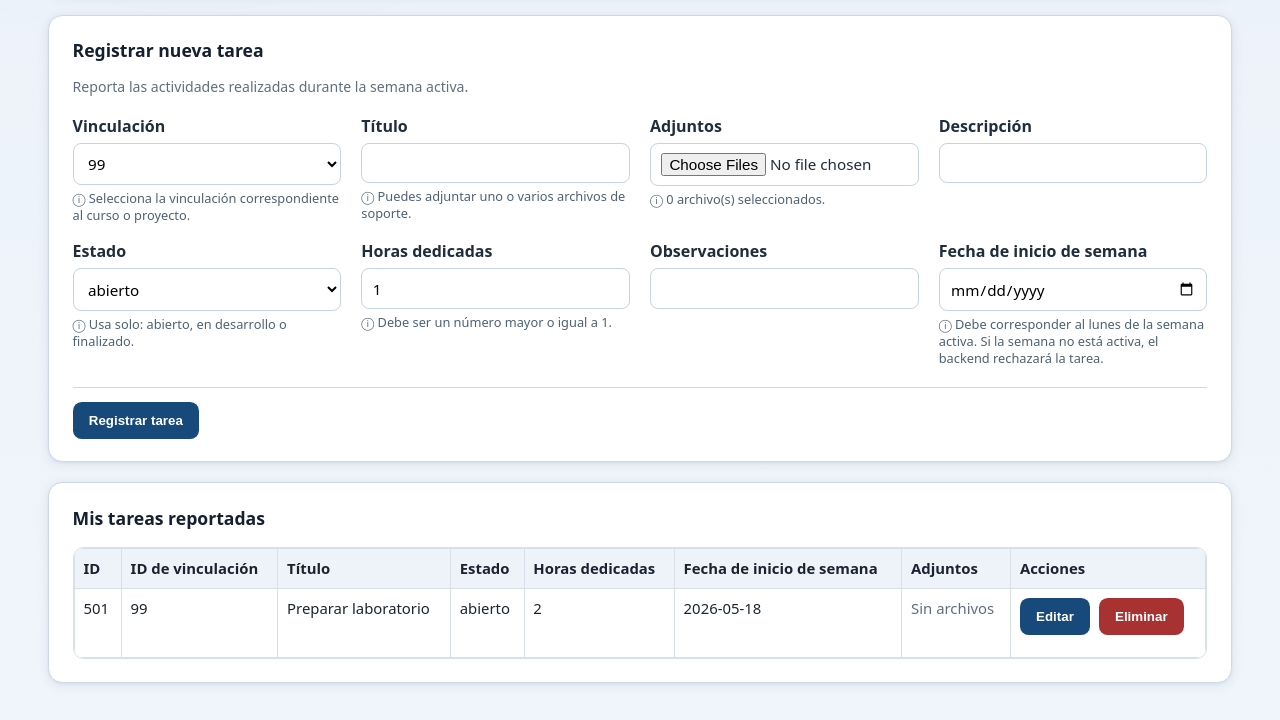
WorkerDashboard › permite eliminar una tarea con respuesta exitosa
This screenshot has width=1280, height=720.
(page scrolled)
Click the button "Eliminar": (1141, 616) [1099, 598, 1184, 635]
(page scrolled)
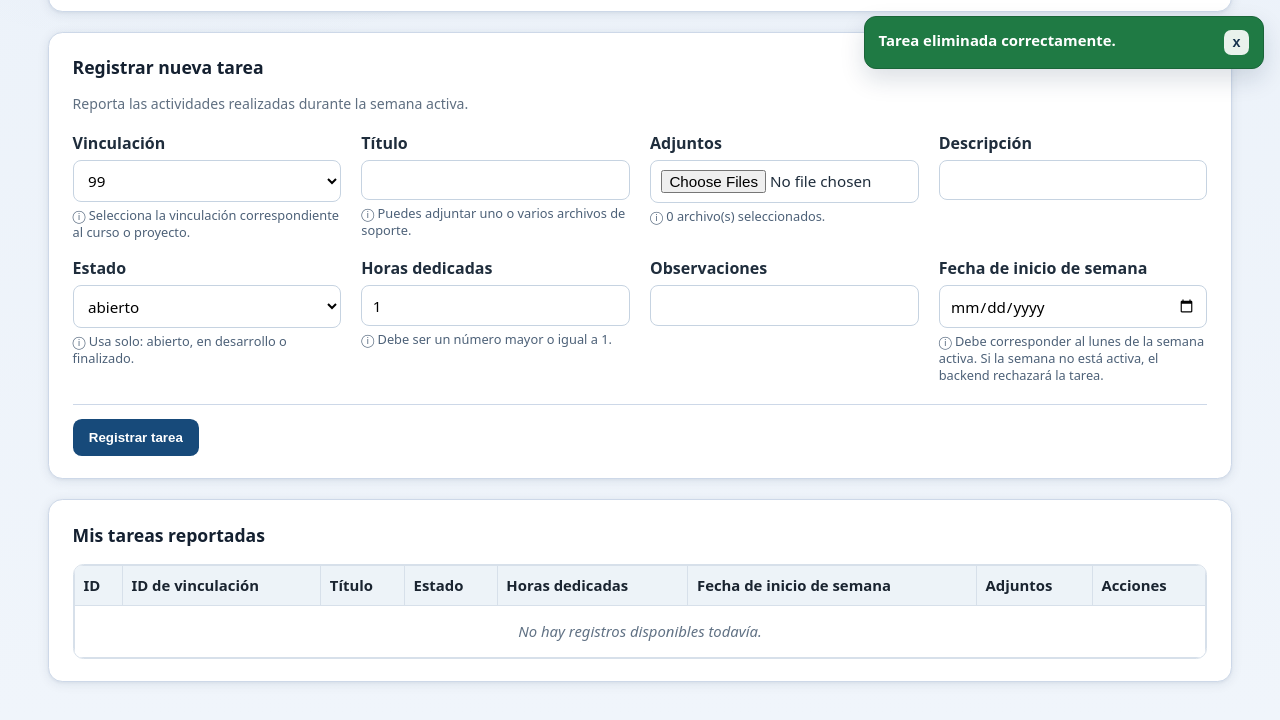
expect the text "Tarea eliminada correctamente." is shown: met, box [879, 30, 1116, 50]
